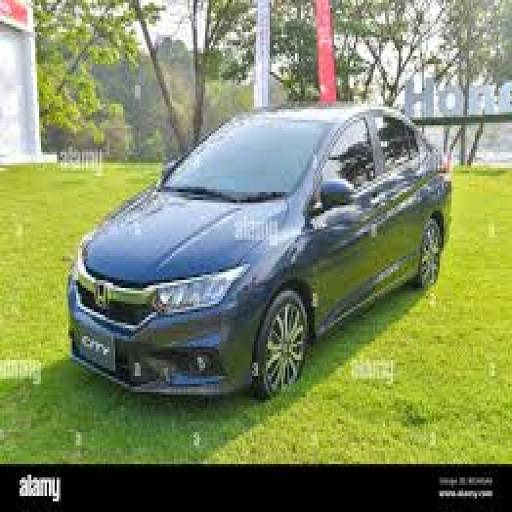License: (72, 321, 122, 371)
